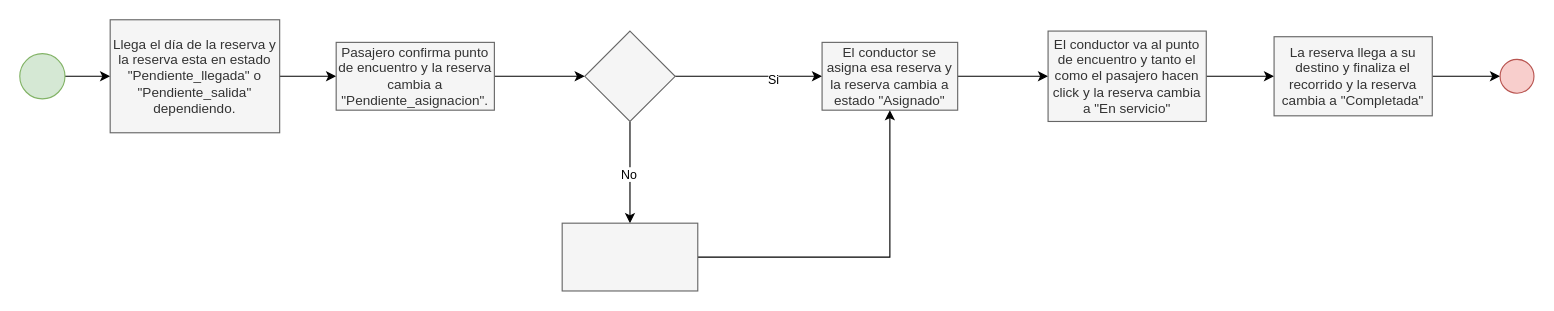
This 1554x311 diagram has some shape labels left out. The shapes that lost their labels are listed below. From the top down, each one's centre as x and y in pixels, then its label:
At (x=629, y=75): "Hay conductores disponibles?".
At (x=629, y=256): "Espera a que algún conductor se desocupe".
